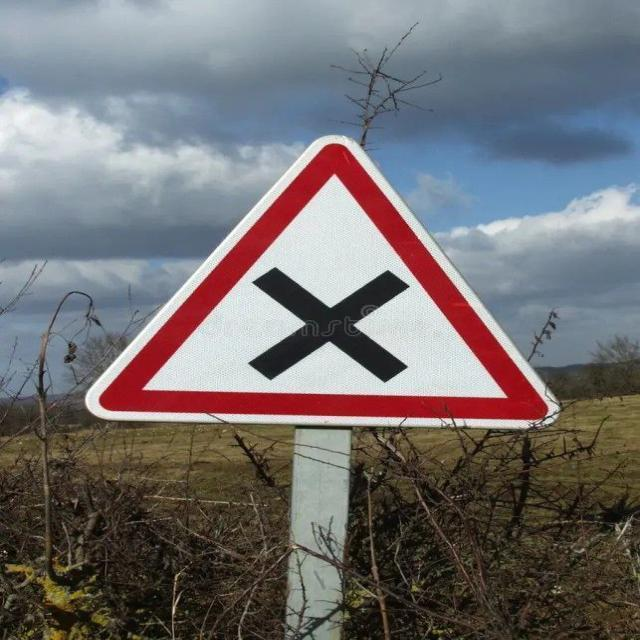cross road: (86, 130, 559, 433)
